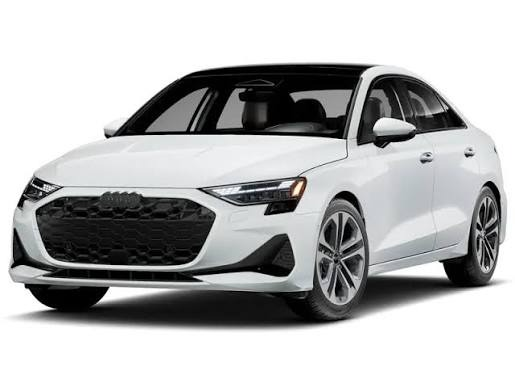car: (12, 60, 512, 310)
